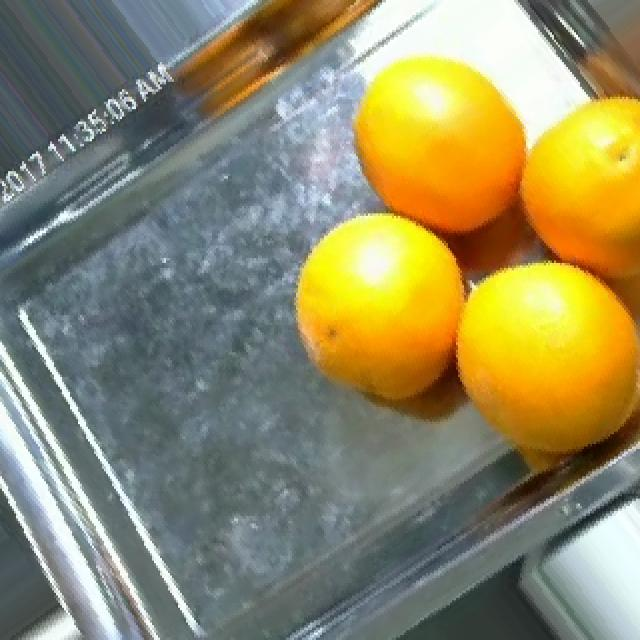Fruit: (272, 191, 442, 389)
